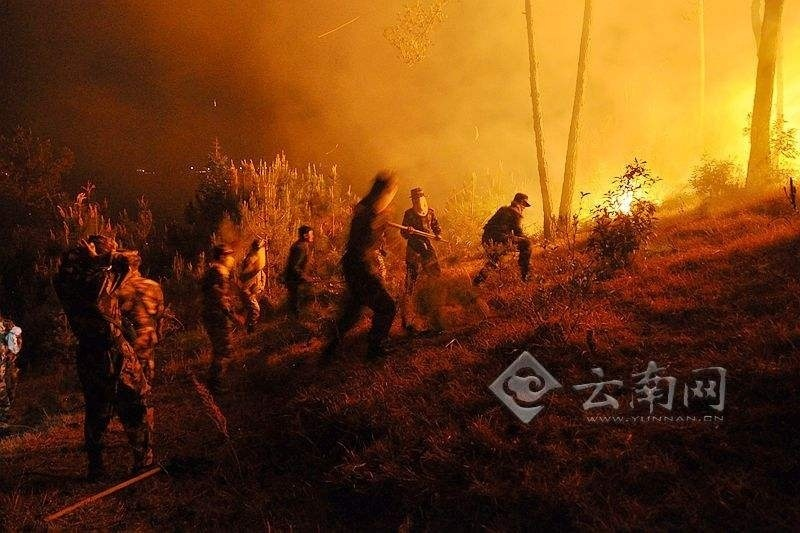fire: (601, 169, 657, 222)
